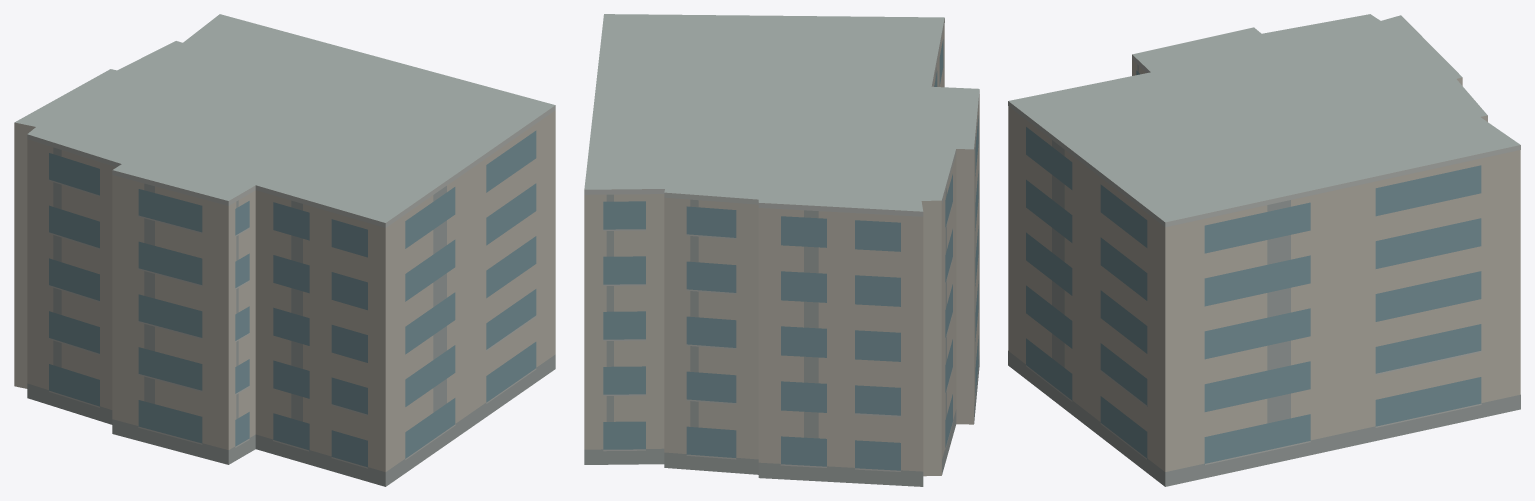
File: survey-upis-32739894.glb
3 renders of one model, left to right at view 1: azimuth 30°, elevation 25°; view 2: azimuth 150°, elevation 25°; view 3: azimuth 270°, elevation 25°, orthographic. The views are drawn at different scales.
Parts seen in each view (by area): view 1: survey-upis-32739894.tmp; view 2: survey-upis-32739894.tmp; view 3: survey-upis-32739894.tmp.
Boxes of the visible parts, x1,y1,x2,y2 form: survey-upis-32739894.tmp: (14, 14, 555, 486); survey-upis-32739894.tmp: (584, 14, 979, 486); survey-upis-32739894.tmp: (1008, 14, 1520, 486).
Bounding box in the file's own units: 22.18 × 13.12 × 23.06.
